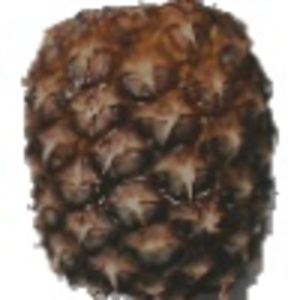abacaxi: (12, 1, 283, 300)
